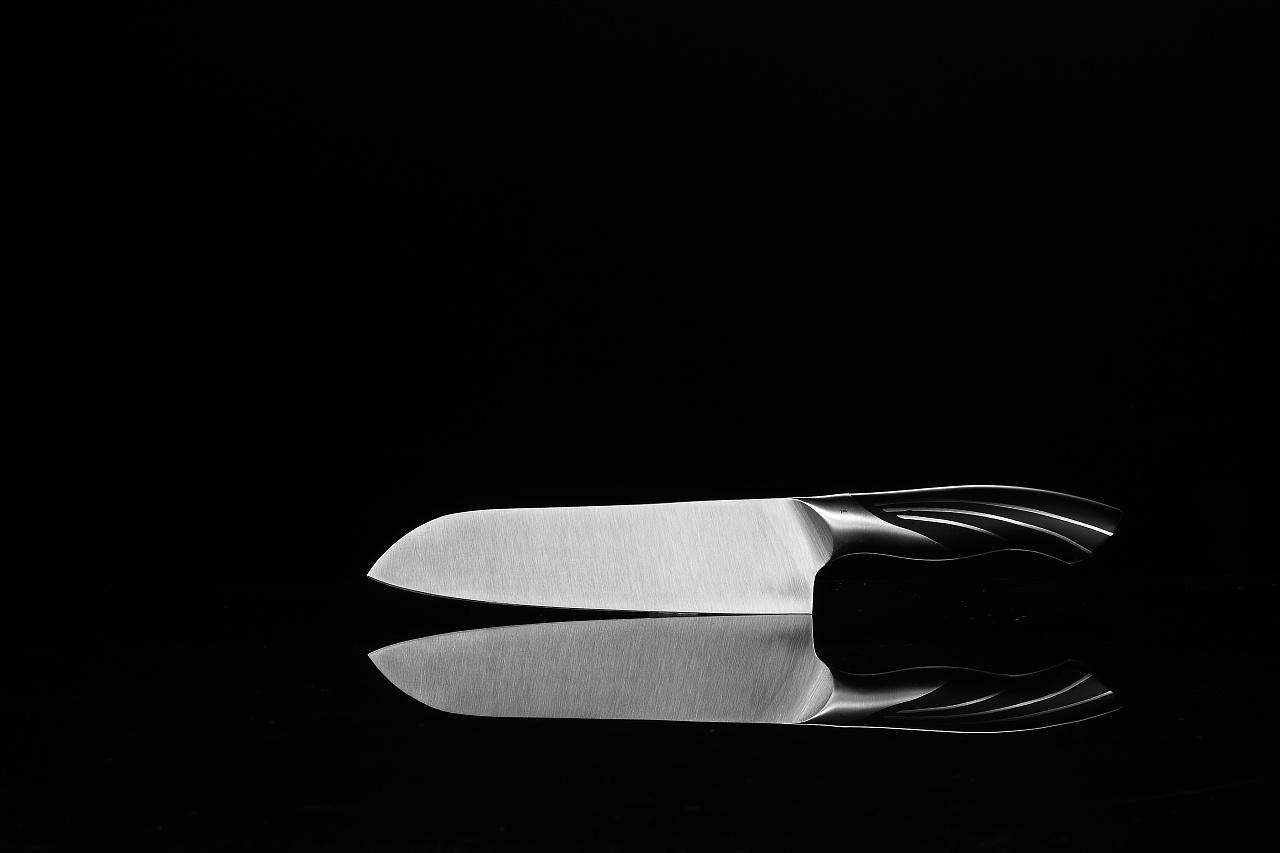knife: (324, 477, 1130, 629)
